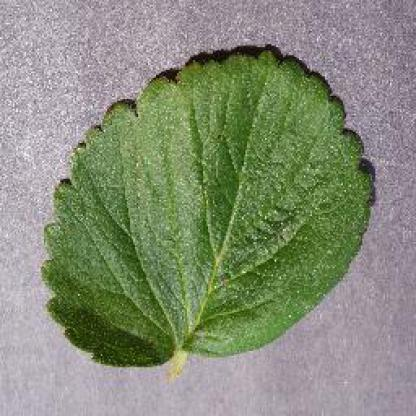healthy: (29, 34, 390, 387)
